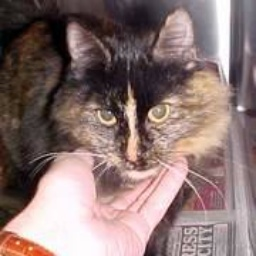cat: (4, 13, 233, 237)
